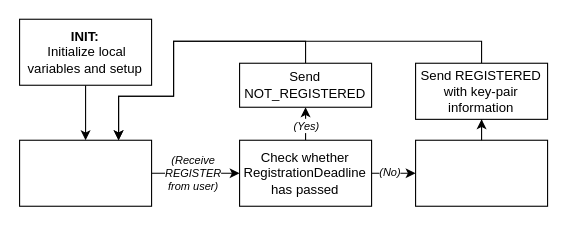
The diagram is 567 pixels wide and 226 high, and some of its shapes have lost their labels. Each missing label, with the centre of its shape:
Generate key-pair and register user as "WORKER" or "REQUESTER": point 481,172
WORKING : Await interaction from Worker, Requester, or TSC: point 85,172
